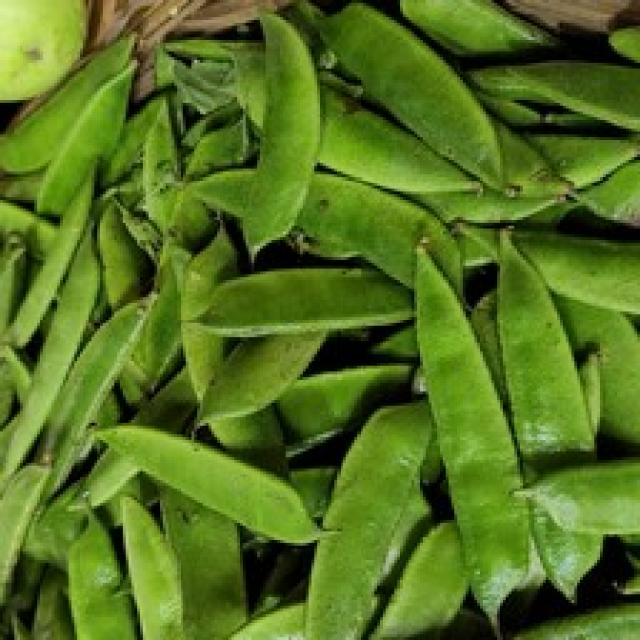Bean: (43, 84, 637, 637)
